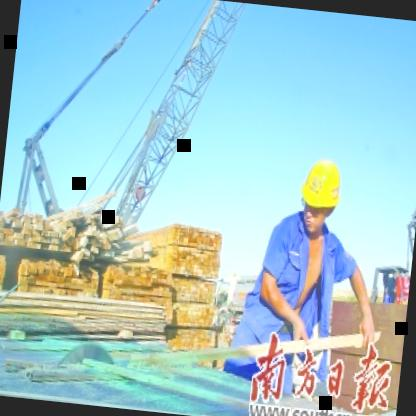helmet: (292, 151, 348, 240)
